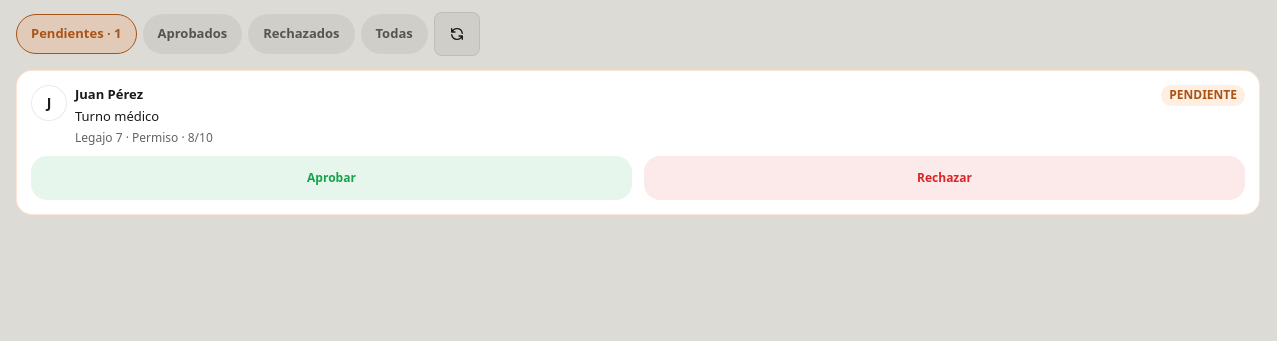
Scenario: Rechazar pide confirmación; Cancelar no envía nada
Click the button with aria-label "Rechazar solicitud de Juan Pérez" at coordinates (944, 178), box x1=644 y1=156 x2=1245 y2=200
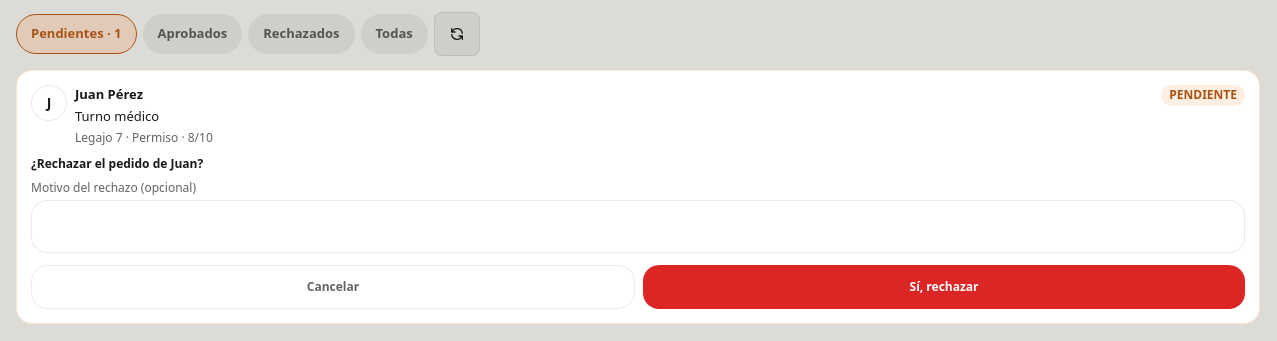
Expected: the text "¿Rechazar el pedido de Juan?" is shown, x1=31 y1=155 x2=203 y2=172
Click the button "Cancelar" at coordinates (333, 287), box x1=31 y1=265 x2=635 y2=309
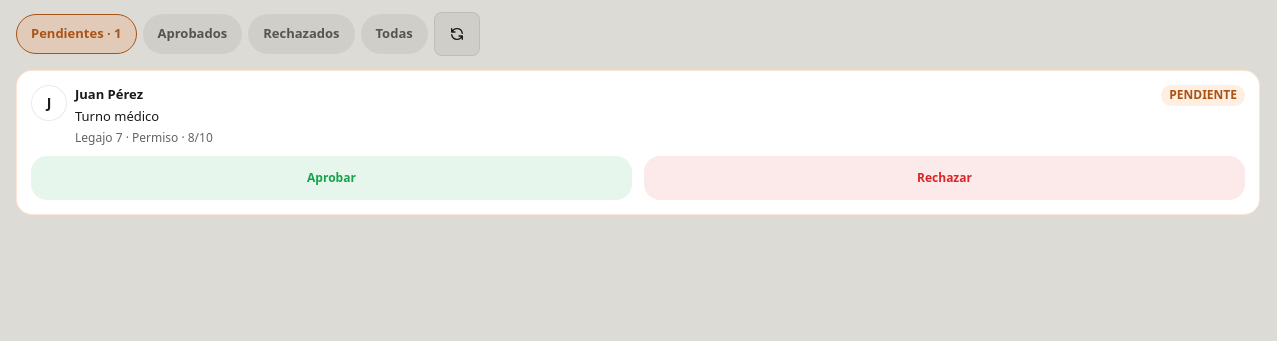
Expected: the button with aria-label "Rechazar solicitud de Juan Pérez" is shown, x1=644 y1=156 x2=1245 y2=200
